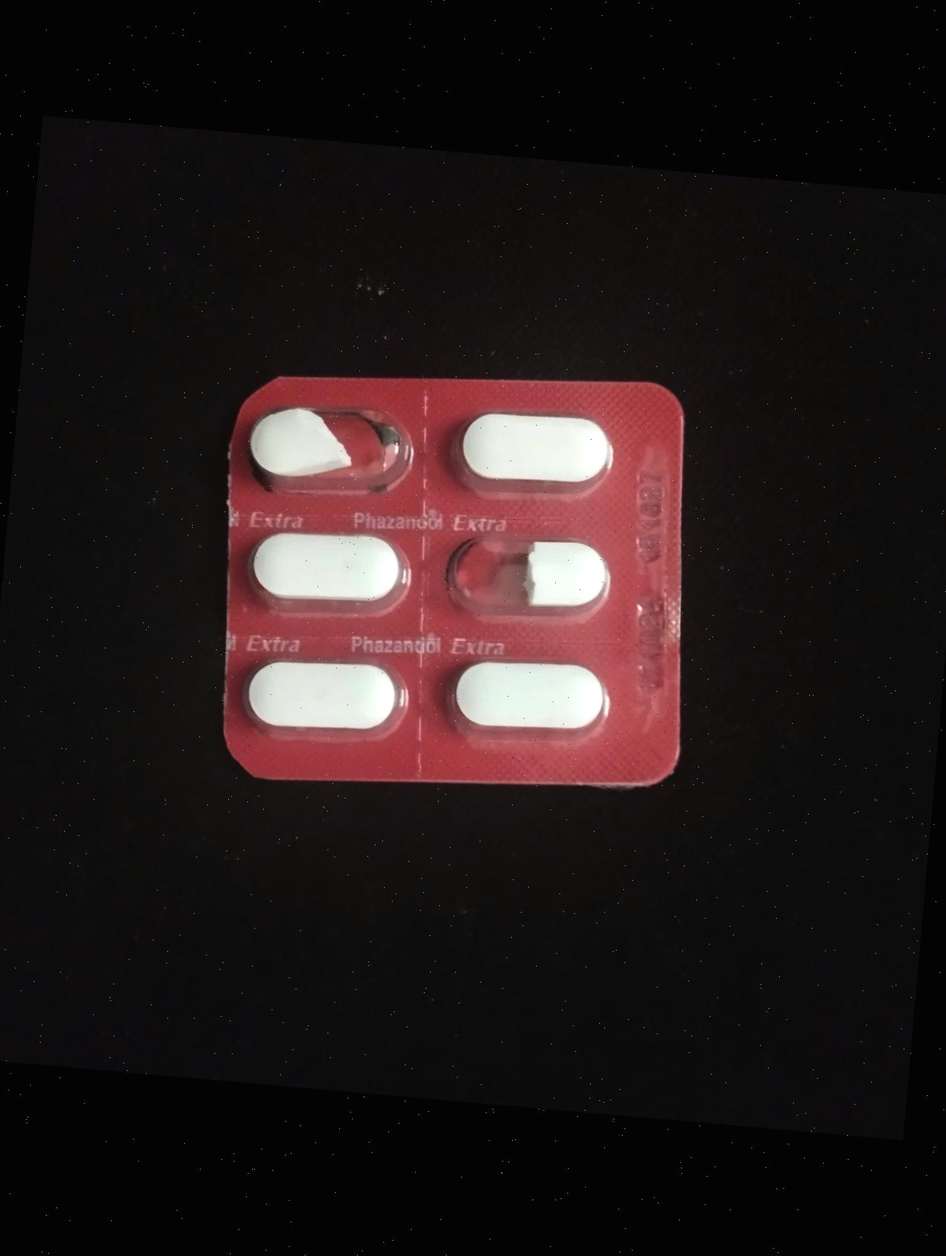Full: (439, 651, 617, 750), (450, 406, 617, 508), (237, 653, 407, 748), (245, 528, 409, 618)
Partial: (229, 381, 411, 518), (452, 520, 613, 624)
